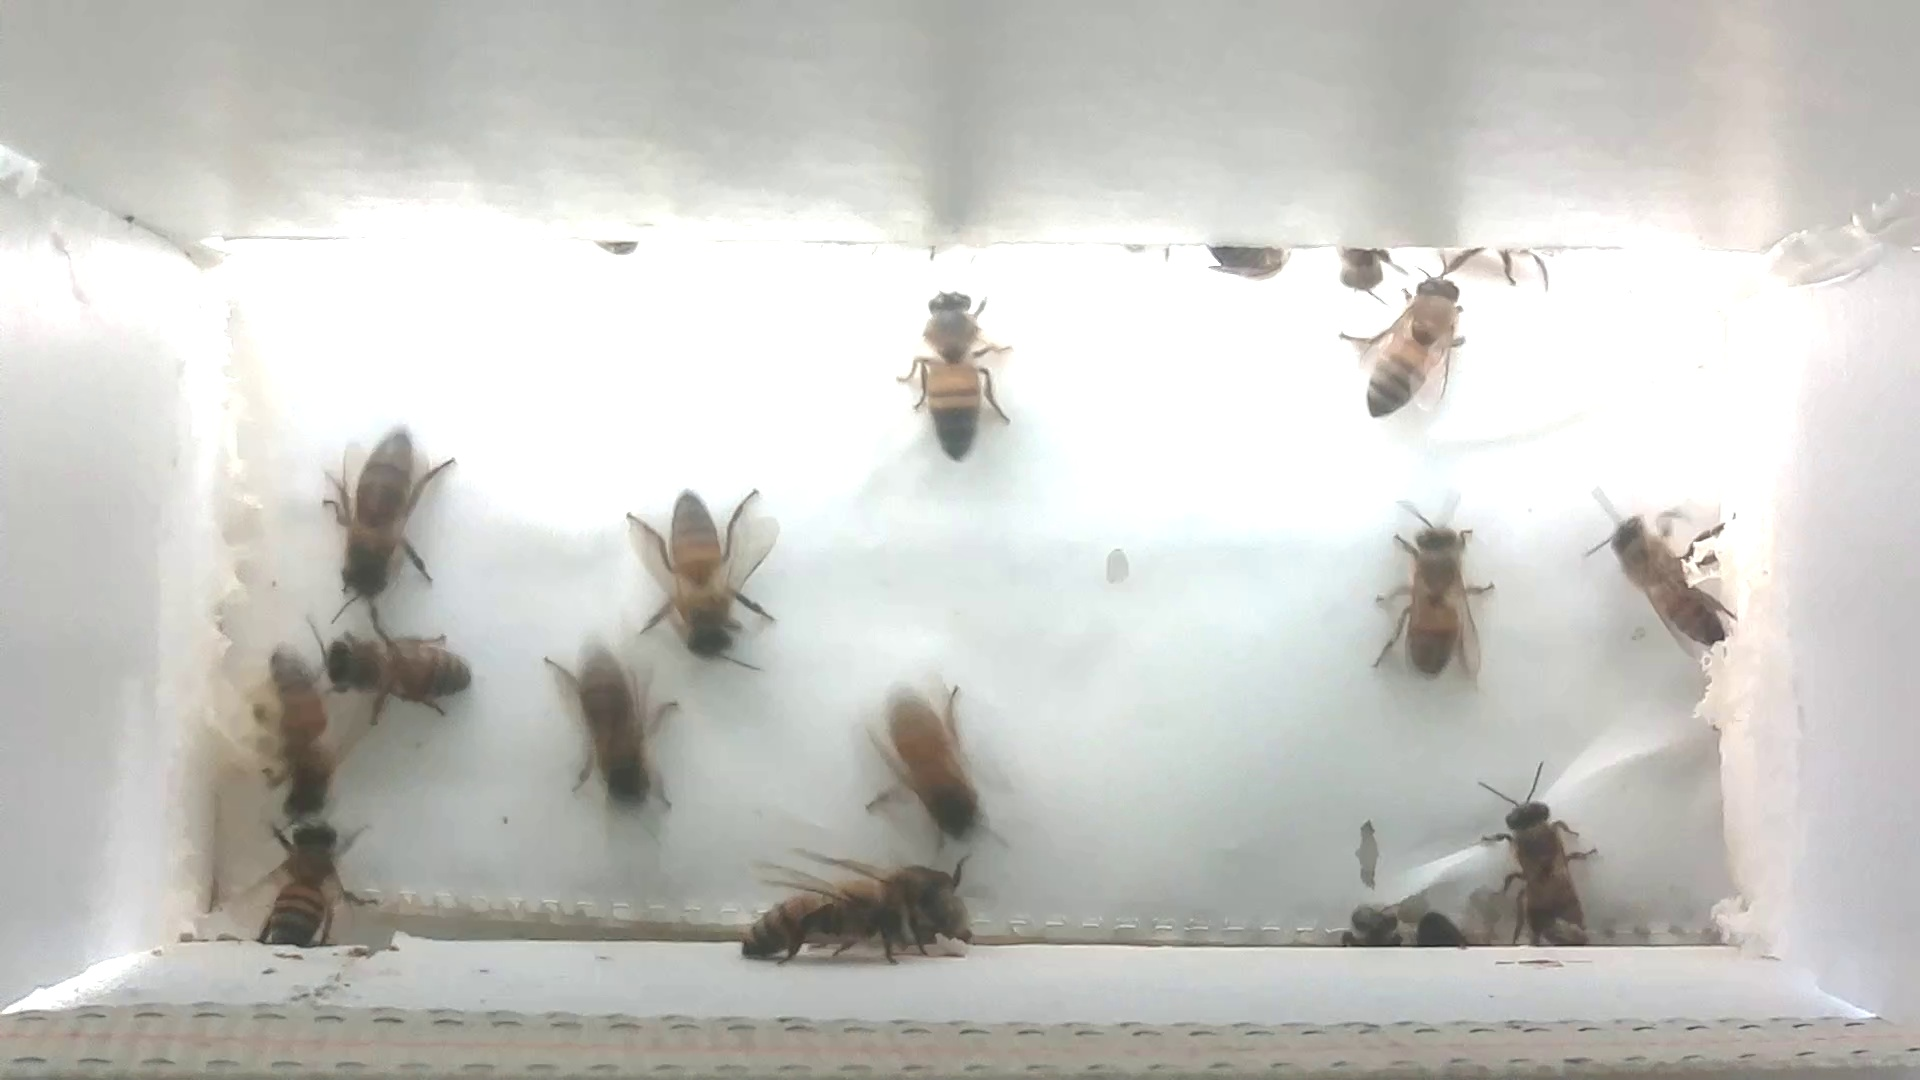bee: (611, 477, 796, 675), (299, 409, 463, 630), (1571, 487, 1749, 665), (876, 273, 1029, 471), (1366, 488, 1509, 690), (858, 673, 1011, 855), (535, 644, 688, 824), (1470, 767, 1609, 961), (1324, 262, 1481, 433), (713, 849, 928, 971), (236, 638, 349, 833), (303, 618, 495, 728), (255, 800, 368, 956), (899, 849, 1001, 965), (1200, 229, 1295, 295)
